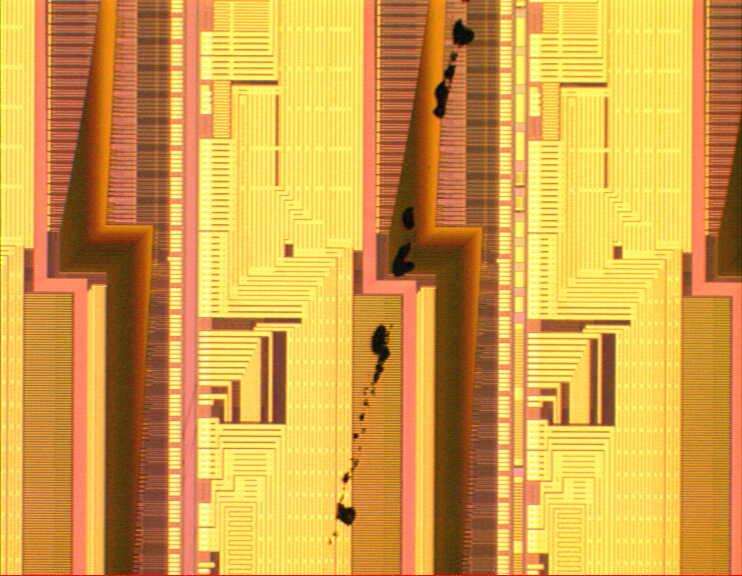SCRATCH: (322, 1, 485, 553)
